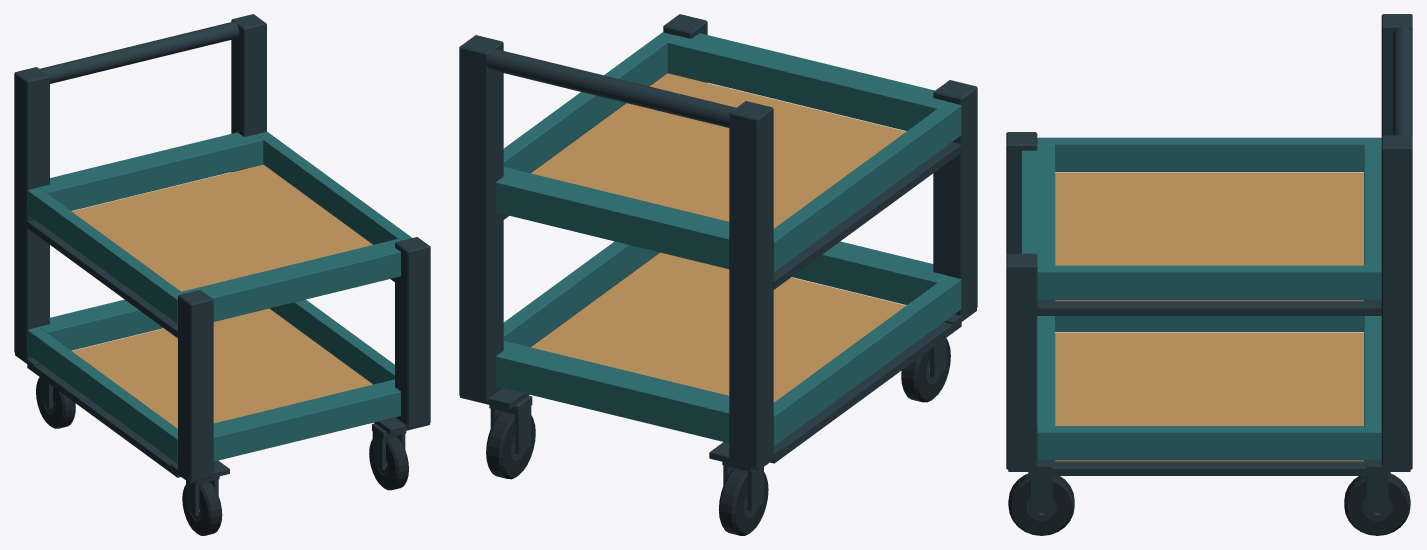
Rendered from picking-cart.glb.
3 renders of one model, left to right at view 1: azimuth 30°, elevation 25°; view 2: azimuth 150°, elevation 25°; view 3: azimuth 270°, elevation 25°, orthographic. The views are drawn at different scales.
Visible parts, largest first — view 1: picking-cart, picking-cart__batch_04, picking-cart__batch_08, picking-cart__batch_12, picking-cart__batch_06, picking-cart__batch_02; view 2: picking-cart, picking-cart__batch_12, picking-cart__batch_16, picking-cart__batch_04, picking-cart__batch_14, picking-cart__batch_10; view 3: picking-cart, picking-cart__batch_08, picking-cart__batch_16, picking-cart__batch_06, picking-cart__batch_14.
Part boxes in pixels (x1,y1,x2,y2): picking-cart: (14,14,430,483); picking-cart__batch_04: (182,481,222,535); picking-cart__batch_08: (369,436,408,490); picking-cart__batch_12: (36,377,75,428); picking-cart__batch_06: (372,423,406,470); picking-cart__batch_02: (186,476,219,516); picking-cart: (459,14,977,470); picking-cart__batch_12: (719,468,768,535); picking-cart__batch_16: (486,411,535,479); picking-cart__batch_04: (901,338,950,402); picking-cart__batch_14: (489,395,532,454); picking-cart__batch_10: (722,462,763,511); picking-cart: (1006,14,1412,475); picking-cart__batch_08: (1008,473,1074,535); picking-cart__batch_16: (1344,473,1410,535); picking-cart__batch_06: (1028,472,1054,513); picking-cart__batch_14: (1364,472,1390,513).
Size of the model in its own units: 0.72 by 1 by 0.92.
